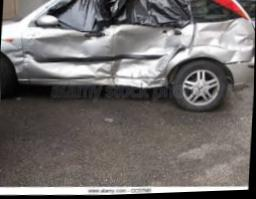Door: (19, 0, 123, 87), (112, 0, 191, 87)
Fender: (193, 20, 255, 65)
